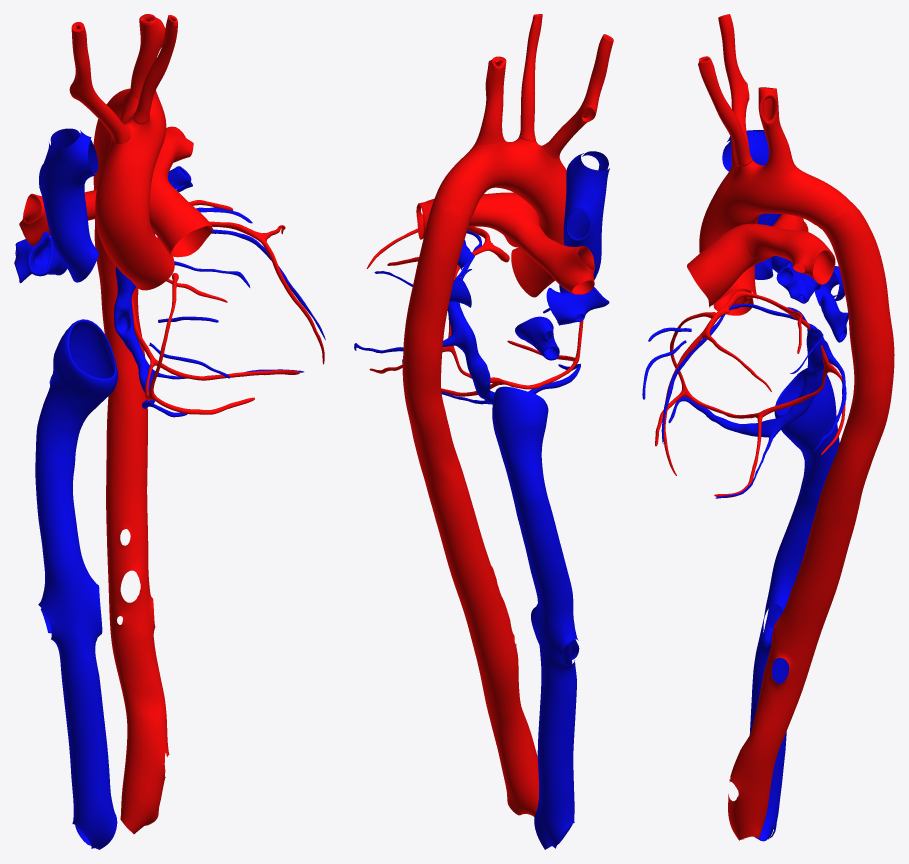
Rendered from 3d-vh-f-heart-landmark.glb.
The picture shows the model from 3 angles, left to right: view 1: azimuth 30°, elevation 25°; view 2: azimuth 150°, elevation 25°; view 3: azimuth 270°, elevation 25°; orthographic projection. The views are drawn at different scales.
Visible parts, largest first — view 1: VH_F_heart_landmark_arteries, VH_F_heart_landmark_veins; view 2: VH_F_heart_landmark_arteries, VH_F_heart_landmark_veins; view 3: VH_F_heart_landmark_arteries, VH_F_heart_landmark_veins.
Boxes of the visible parts, box(x1,y1,x2,y2) form: VH_F_heart_landmark_arteries: box(19, 14, 324, 833); VH_F_heart_landmark_veins: box(14, 128, 325, 849); VH_F_heart_landmark_arteries: box(366, 14, 613, 816); VH_F_heart_landmark_veins: box(354, 151, 609, 849); VH_F_heart_landmark_arteries: box(655, 14, 894, 840); VH_F_heart_landmark_veins: box(642, 130, 848, 841).
Size of the model in its own units: 0.1408 by 0.4519 by 0.1265.
